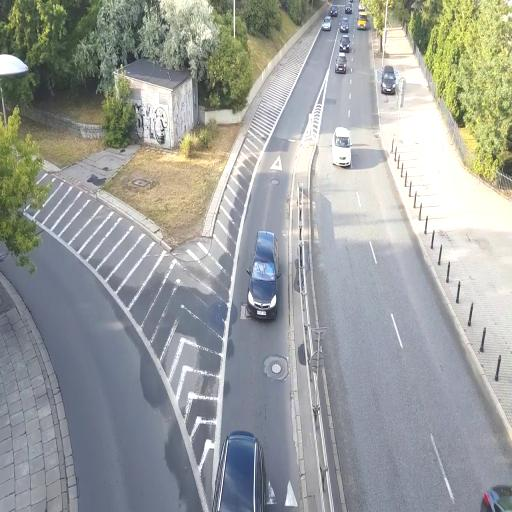vehicle: (213, 430, 269, 512), (331, 126, 351, 168), (380, 66, 398, 95), (336, 50, 348, 74)
